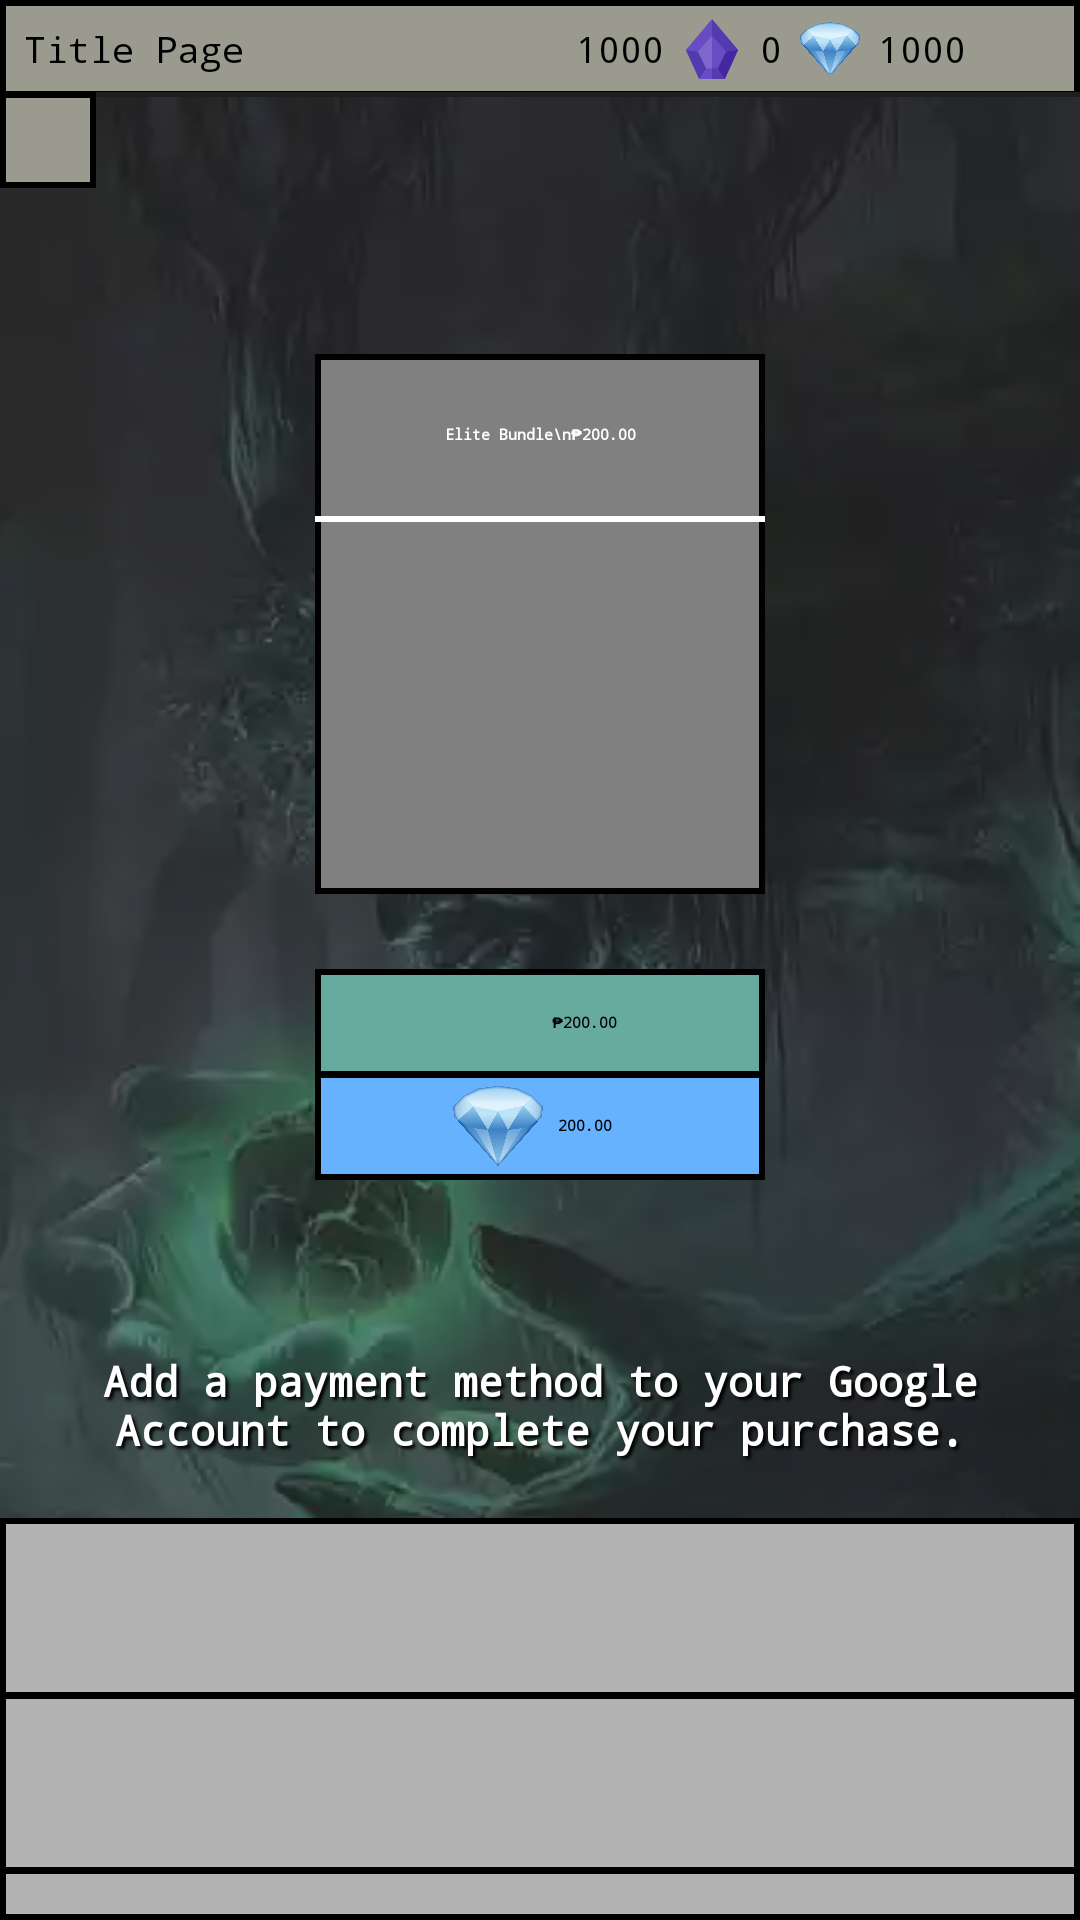

Icon click points for this 1080px×1920px phone screenshot, format (x,y):
diamond: (830,48), (498,1126)
